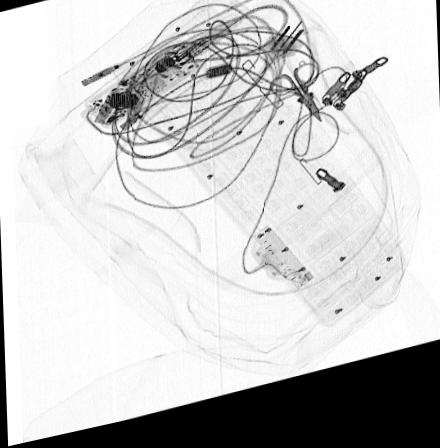Scissors: (266, 75, 320, 138)
